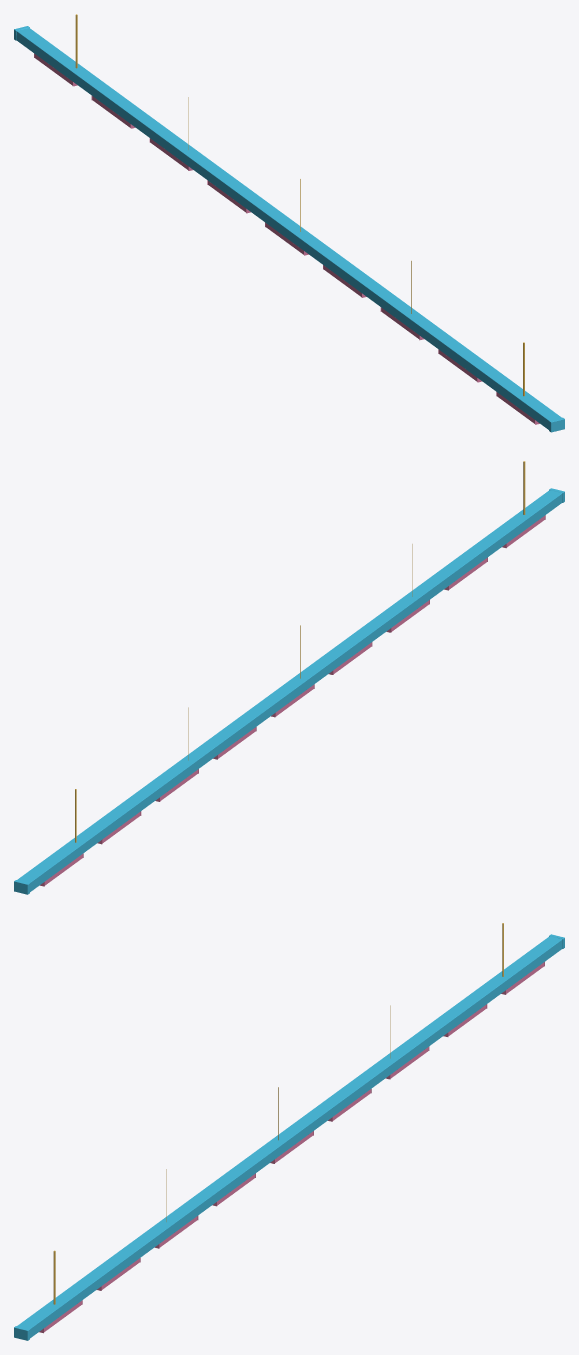
The model's file is lampB.fbx.
3 views of the same model, one above another, from view 1: azimuth 30°, elevation 25°; view 2: azimuth 150°, elevation 25°; view 3: azimuth 330°, elevation 25° (orthographic).
Parts seen in each view (by area): view 1: lampB; view 2: lampB; view 3: lampB.
Boxes of the visible parts, x1,y1,x2,y2 form: lampB: (14,14,564,432); lampB: (14,461,564,894); lampB: (14,923,564,1340).
Bounding box in the file's own units: 15.56 × 73.39 × 1033.
